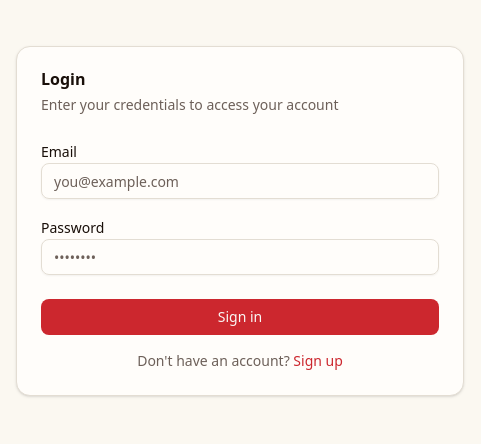
Test: Login › displays error message on failed login
In the field labelled "Email": coordinates (240, 181) x1=41 y1=163 x2=439 y2=199, type "test@example.com"
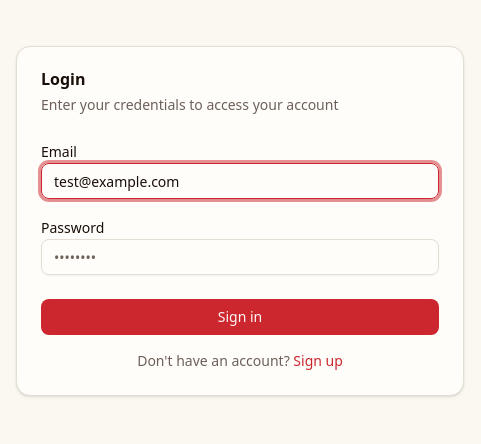
In the password field labelled "Password": coordinates (240, 257) x1=41 y1=239 x2=439 y2=275, type "wrongpassword"
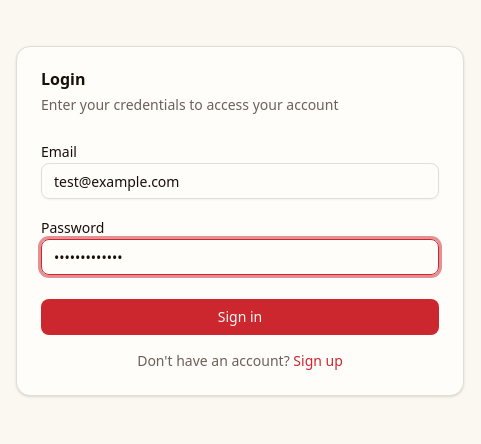
Click the button "Sign in": coordinates (240, 317) x1=41 y1=299 x2=439 y2=335
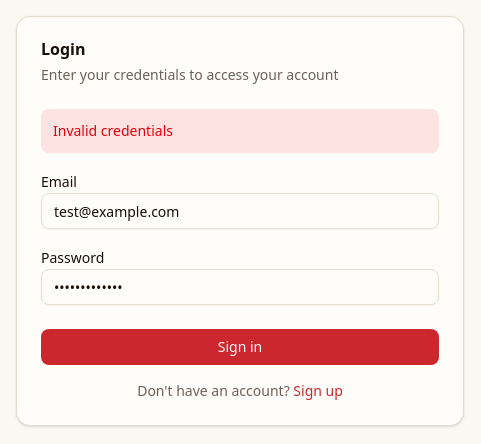
expect the text "Invalid credentials" is shown: met, box x1=41 y1=109 x2=439 y2=153
